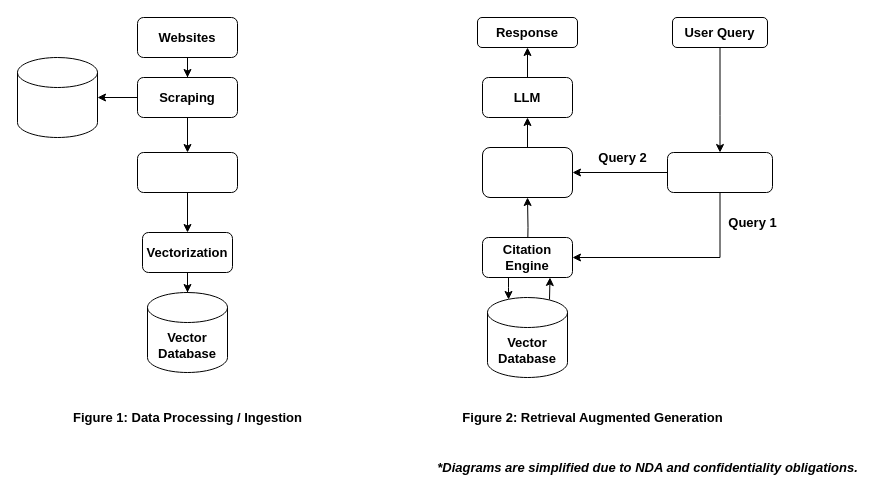
Some shapes in this 875 by 500 pixel diagram are drawn without their labels. The shapes that lost their labels are listed below. From the top down, each one's centre as x and y in pixels, then its label:
At point 57,97: "Logging Database".
At point 187,172: "Data processing".
At point 527,172: "Prompt Generator".
At point 719,172: "User Query Augmentation".
